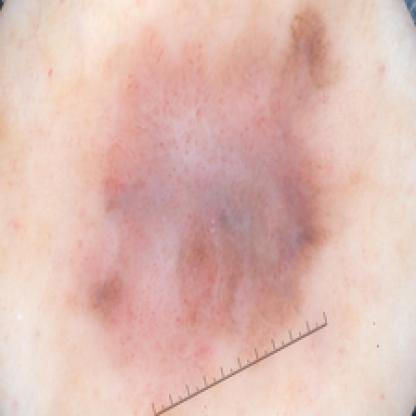malignant: (83, 41, 327, 306)
